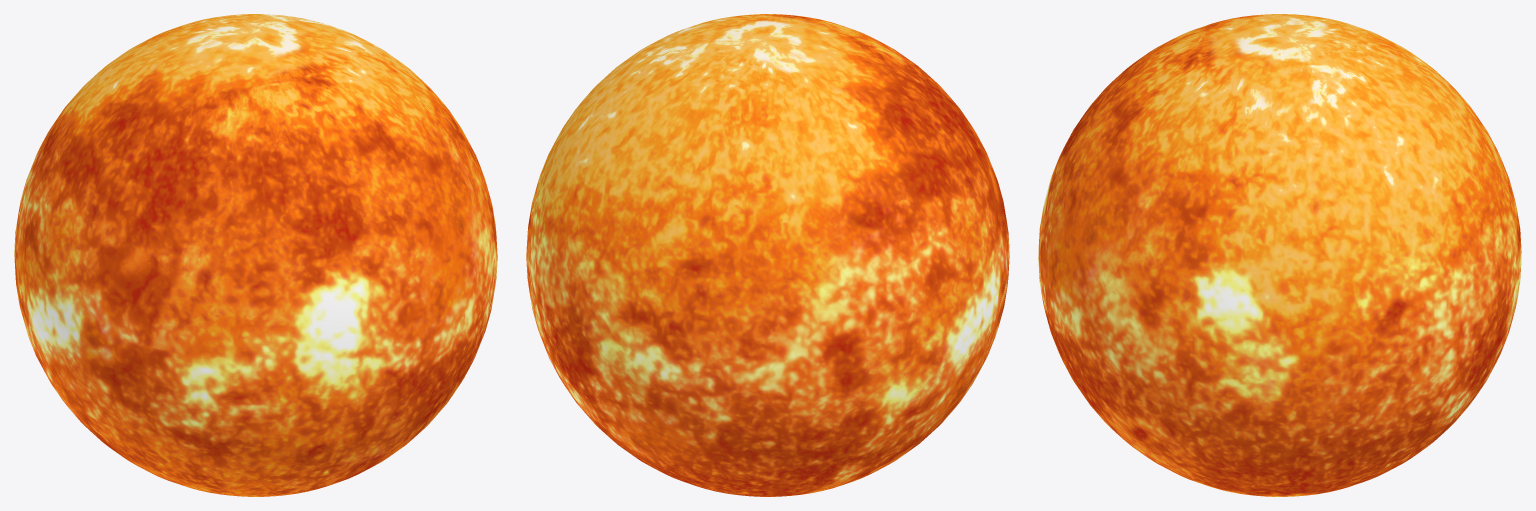
File: sun.glb
3 renders of one model, left to right at view 1: azimuth 30°, elevation 25°; view 2: azimuth 150°, elevation 25°; view 3: azimuth 270°, elevation 25°, orthographic.
Parts seen in each view (by area): view 1: sun; view 2: sun; view 3: sun.
Part boxes in pixels (box(x1,y1,x2,y2)): sun: box(14, 14, 497, 496); sun: box(526, 14, 1009, 496); sun: box(1038, 14, 1521, 496).
Bounding box in the file's own units: 1.46 × 1.46 × 1.46.
Materials: 1 (1 with a texture image).
